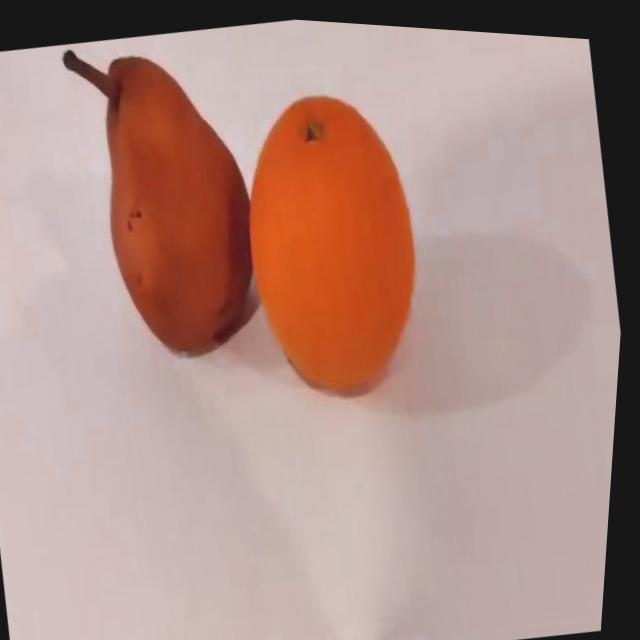Orange: (220, 73, 451, 413)
